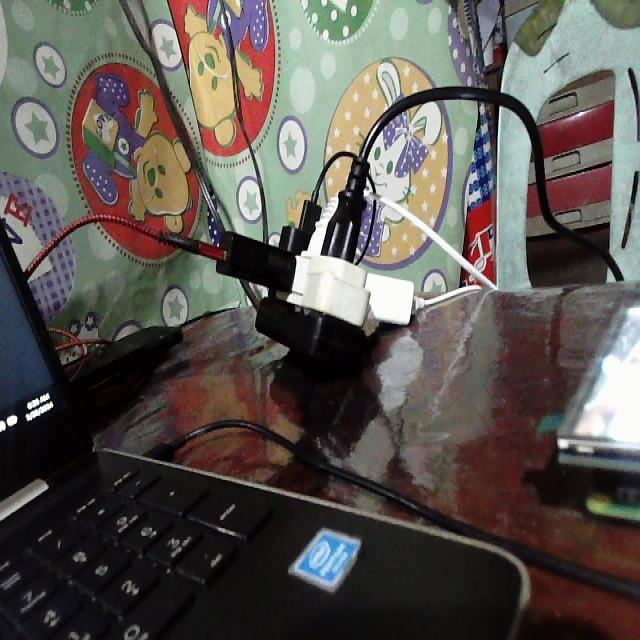-: (200, 151, 416, 364)
